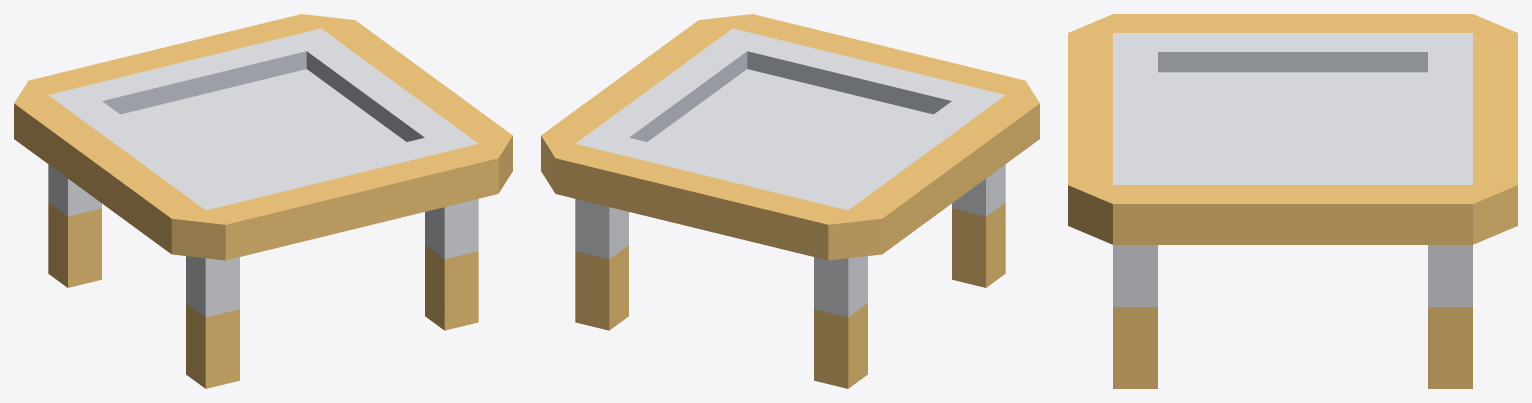
File: platform_low.glb
The picture shows the model from 3 angles, left to right: view 1: azimuth 30°, elevation 25°; view 2: azimuth 150°, elevation 25°; view 3: azimuth 270°, elevation 25°; orthographic projection. The views are drawn at different scales.
Visible parts, largest first — view 1: platform_low; view 2: platform_low; view 3: platform_low.
Boxes of the visible parts, box(x1,y1,x2,y2) form: platform_low: box(14, 14, 512, 388); platform_low: box(541, 14, 1039, 388); platform_low: box(1068, 14, 1517, 388).
Bounding box in the file's own units: 1 × 0.5 × 1.
